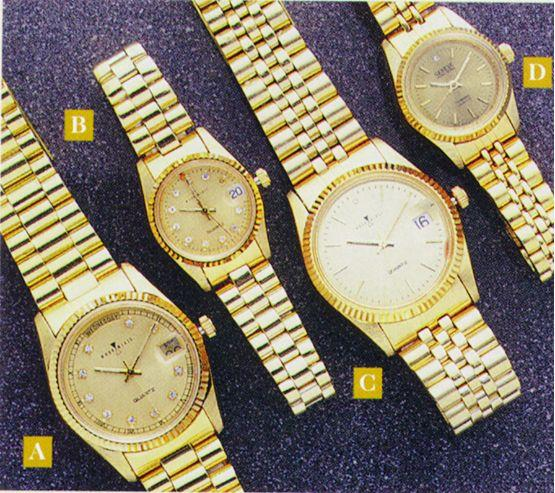watch: (295, 148, 476, 347), (48, 270, 219, 465), (119, 135, 298, 288), (390, 13, 518, 153)
